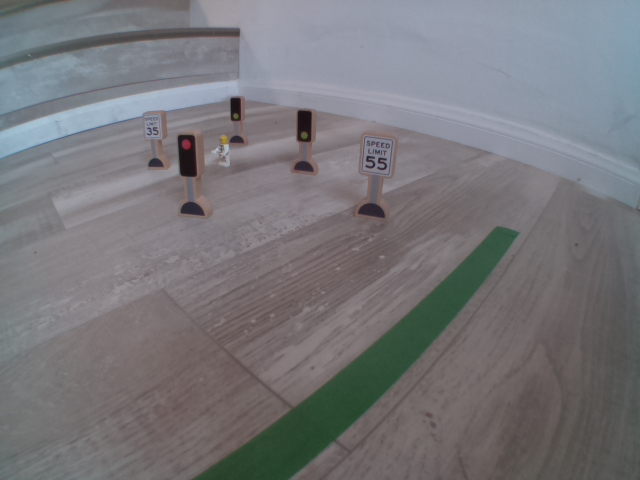Green Traffic Light: (294, 105, 316, 143), (226, 96, 247, 124)
Red Traffic Light: (173, 131, 201, 182)
Speed Limit 35: (141, 107, 164, 142)
Speed Limit 55: (351, 117, 398, 179)
person: (206, 133, 236, 170)
